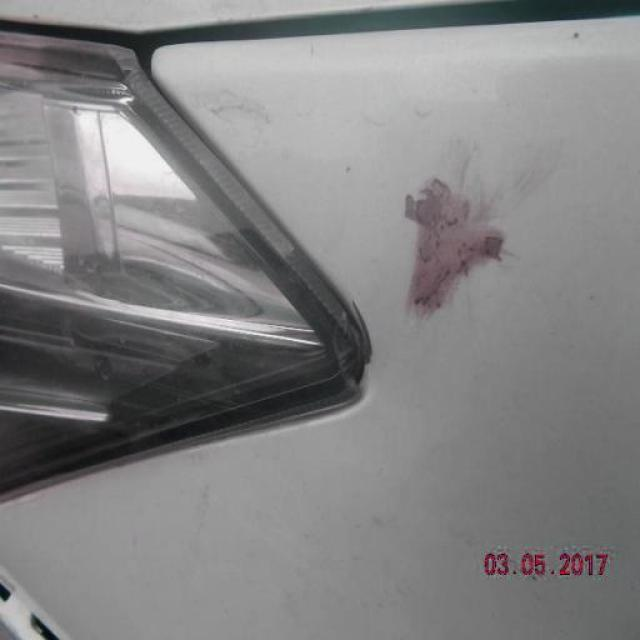car damage: (408, 169, 504, 318)
